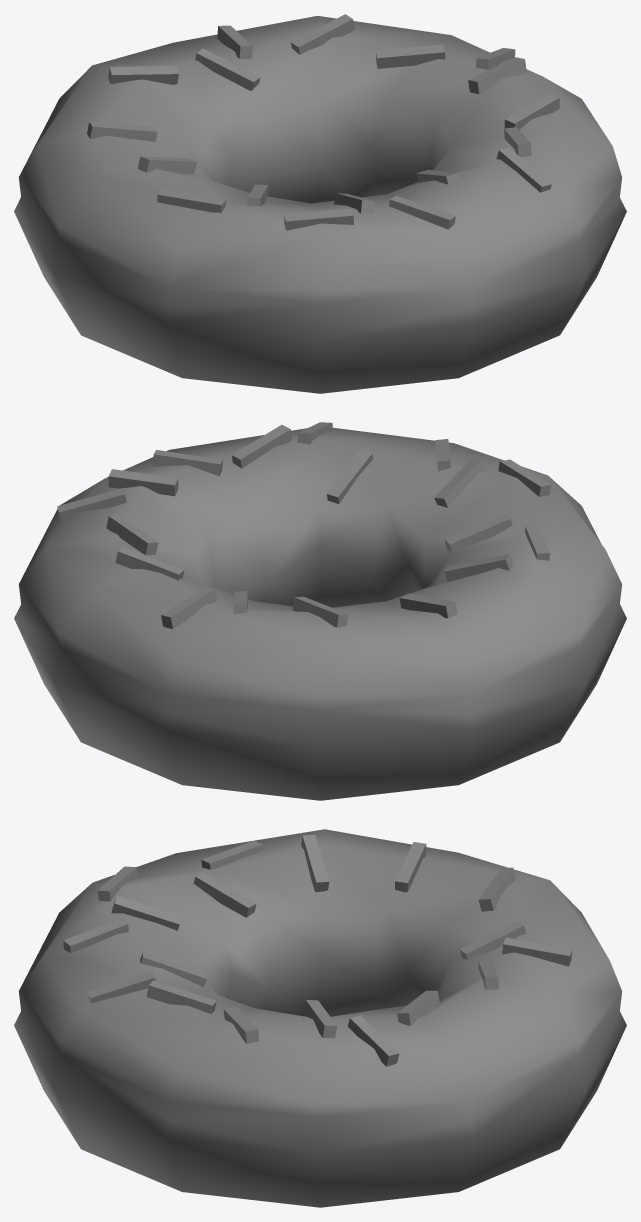
File: SM_Prop_Donut_01.obj
3 views of the same model, one above another, from view 1: azimuth 30°, elevation 25°; view 2: azimuth 150°, elevation 25°; view 3: azimuth 270°, elevation 25° (orthographic).
Parts seen in each view (by area): view 1: SM_Prop_Donut_01_Mat_PolygonCity_Texture_01_A; view 2: SM_Prop_Donut_01_Mat_PolygonCity_Texture_01_A; view 3: SM_Prop_Donut_01_Mat_PolygonCity_Texture_01_A.
Part boxes in pixels (bbox=[...]): SM_Prop_Donut_01_Mat_PolygonCity_Texture_01_A: bbox=[14, 14, 626, 393]; SM_Prop_Donut_01_Mat_PolygonCity_Texture_01_A: bbox=[14, 422, 626, 800]; SM_Prop_Donut_01_Mat_PolygonCity_Texture_01_A: bbox=[14, 829, 626, 1207].
Size of the model in its own units: 3.82 by 1.35 by 3.82.
Materials: 1 (1 with a texture image).
